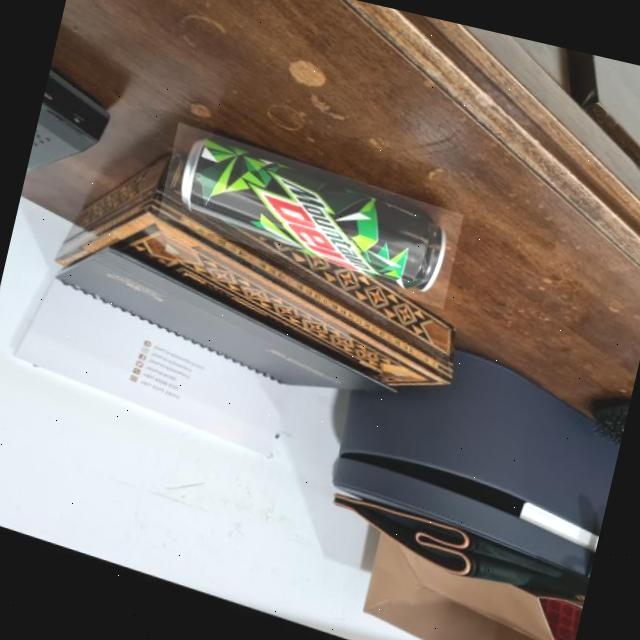trash: (170, 129, 467, 295)
